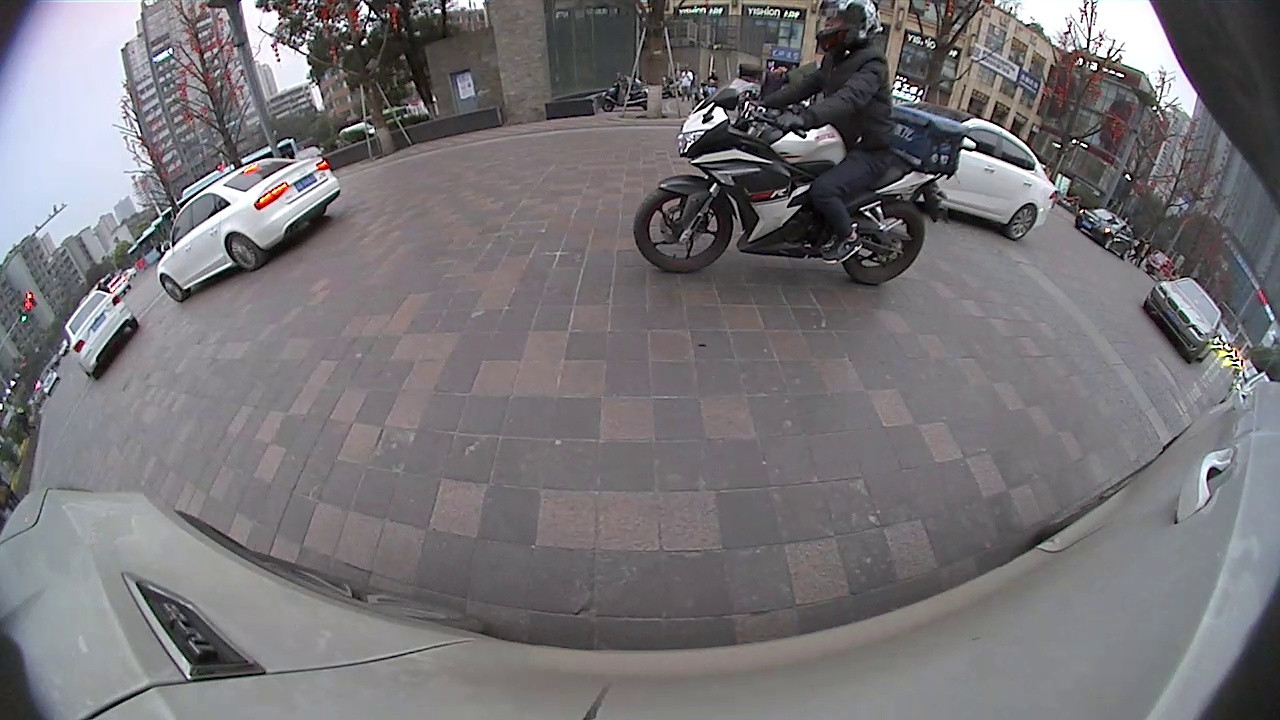car: (156, 152, 344, 305), (907, 100, 1055, 243), (1140, 273, 1226, 368), (60, 287, 142, 384), (1071, 204, 1136, 261)
front: (629, 172, 740, 278), (156, 272, 188, 304)
rear: (833, 194, 929, 288), (222, 231, 266, 275), (1000, 201, 1040, 243)
rider: (631, 1, 967, 287)
